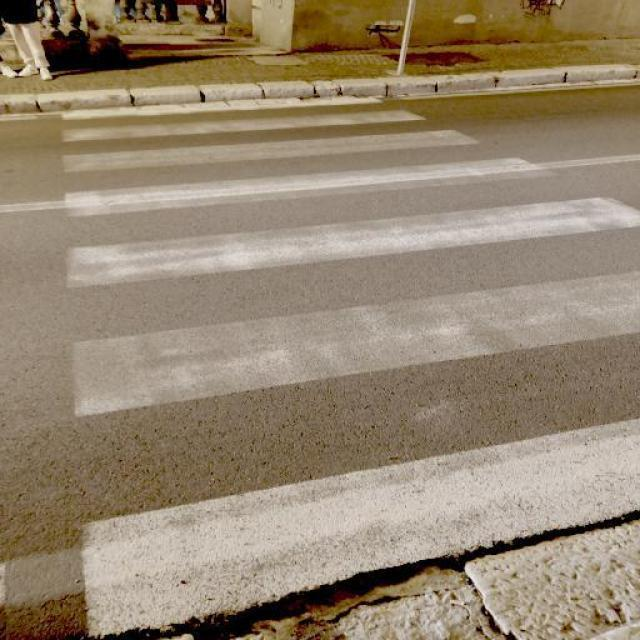crosswalk: (64, 92, 638, 639)
